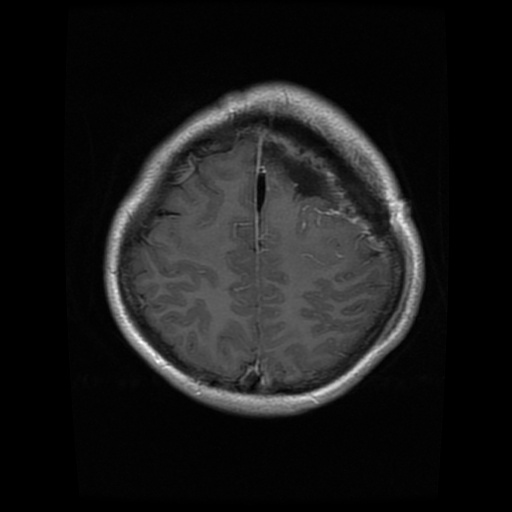glioma: (262, 144, 334, 202)
